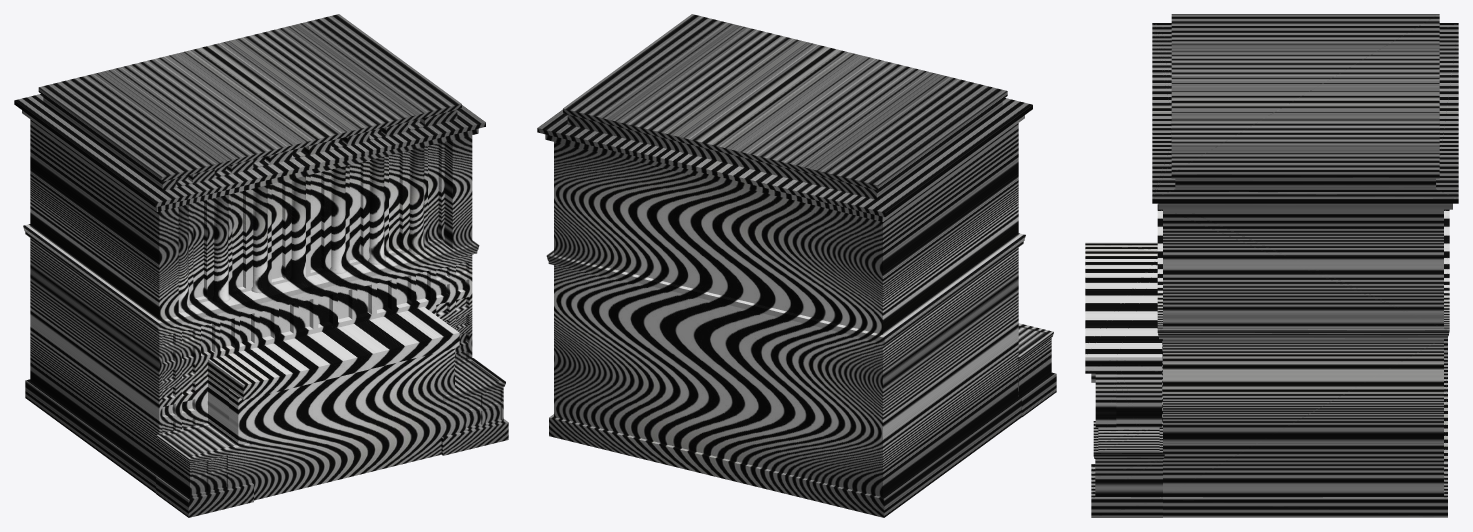
Rendered from Building.fbx.
3 views of the same model, side by side, from view 1: azimuth 30°, elevation 25°; view 2: azimuth 150°, elevation 25°; view 3: azimuth 270°, elevation 25° (orthographic). The views are drawn at different scales.
Parts seen in each view (by area): view 1: Building_28; view 2: Building_28; view 3: Building_28.
Part boxes in pixels (x1=…): Building_28: x1=14, y1=14, x2=508, y2=517; Building_28: x1=537, y1=14, x2=1056, y2=517; Building_28: x1=1085, y1=14, x2=1458, y2=517.
Size of the model in its own units: 1469 by 1322 by 1319.
1 material, 1 textured.
